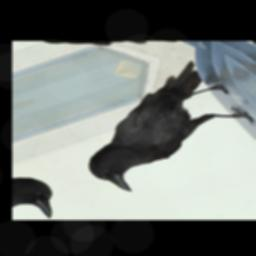Crow: (41, 56, 256, 200)
